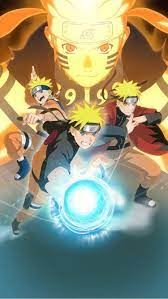Naruto: (45, 2, 129, 86), (69, 103, 106, 151), (114, 80, 143, 120), (29, 76, 55, 106)
